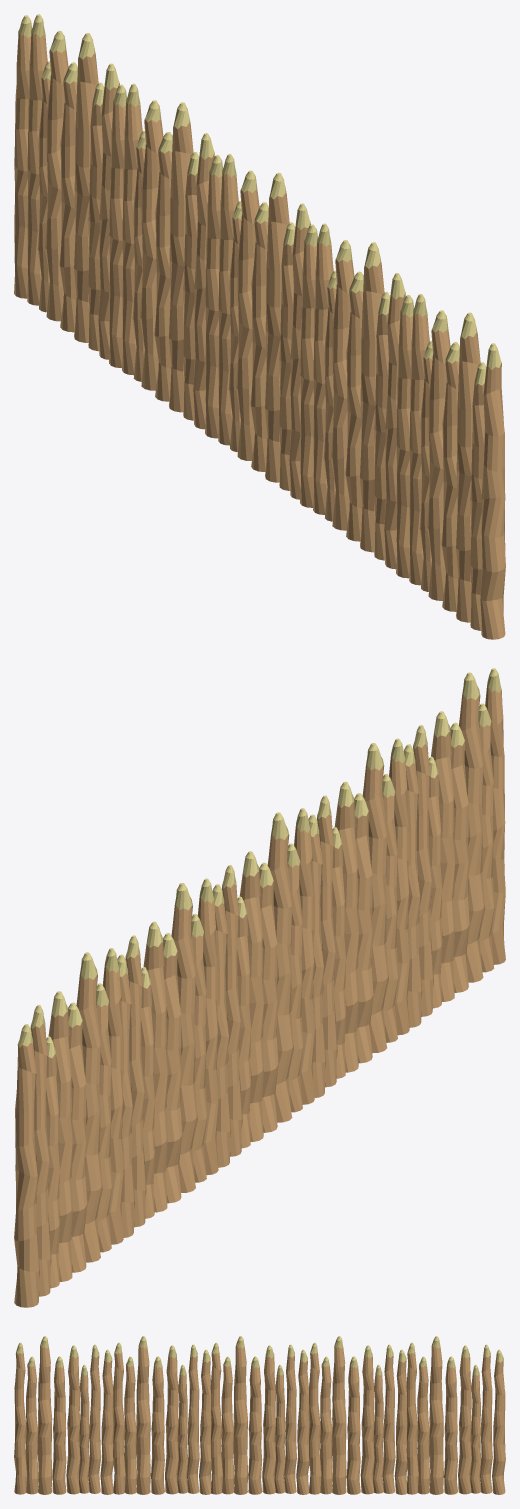
Rendered from muromadeira.fbx.
The picture shows the model from 3 angles, top to bottom: view 1: azimuth 30°, elevation 25°; view 2: azimuth 150°, elevation 25°; view 3: azimuth 270°, elevation 25°; orthographic projection. The views are drawn at different scales.
Visible parts, largest first — view 1: Cylinder.017; view 2: Cylinder.017; view 3: Cylinder.017.
Part boxes in pixels (box(x1,y1,x2,y2)): Cylinder.017: box(14, 14, 505, 639); Cylinder.017: box(14, 668, 505, 1307); Cylinder.017: box(14, 1336, 505, 1494).
Size of the model in its own units: 28.67 by 318 by 910.
